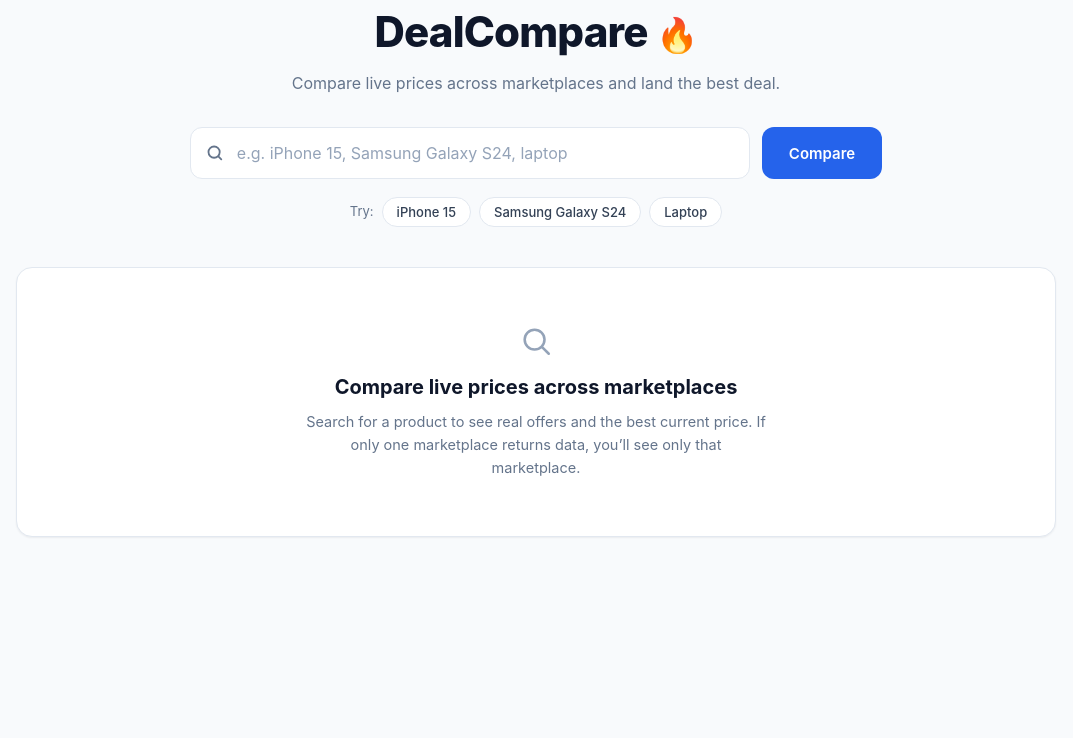
Test case: Home results experience › shows a loading skeleton while the search is in flight
Type "iphone" into the field named "Search products" at (470, 153), box [190,127,750,179]
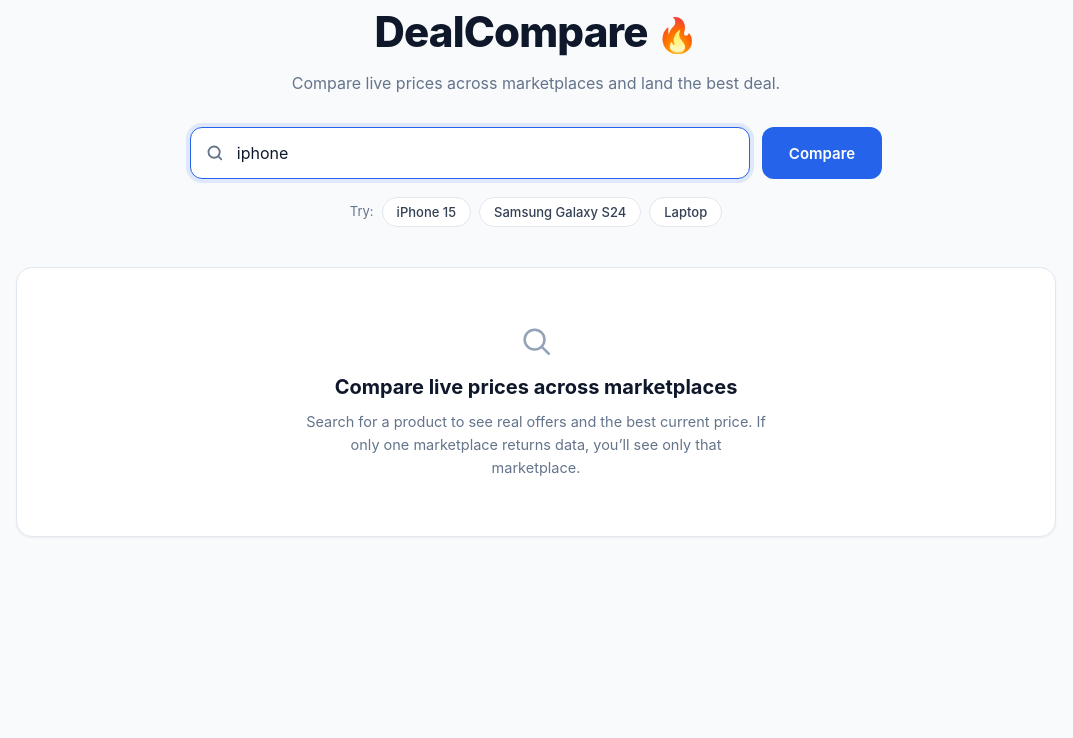
Click the button "Compare" at (822, 153), box [762,127,882,179]
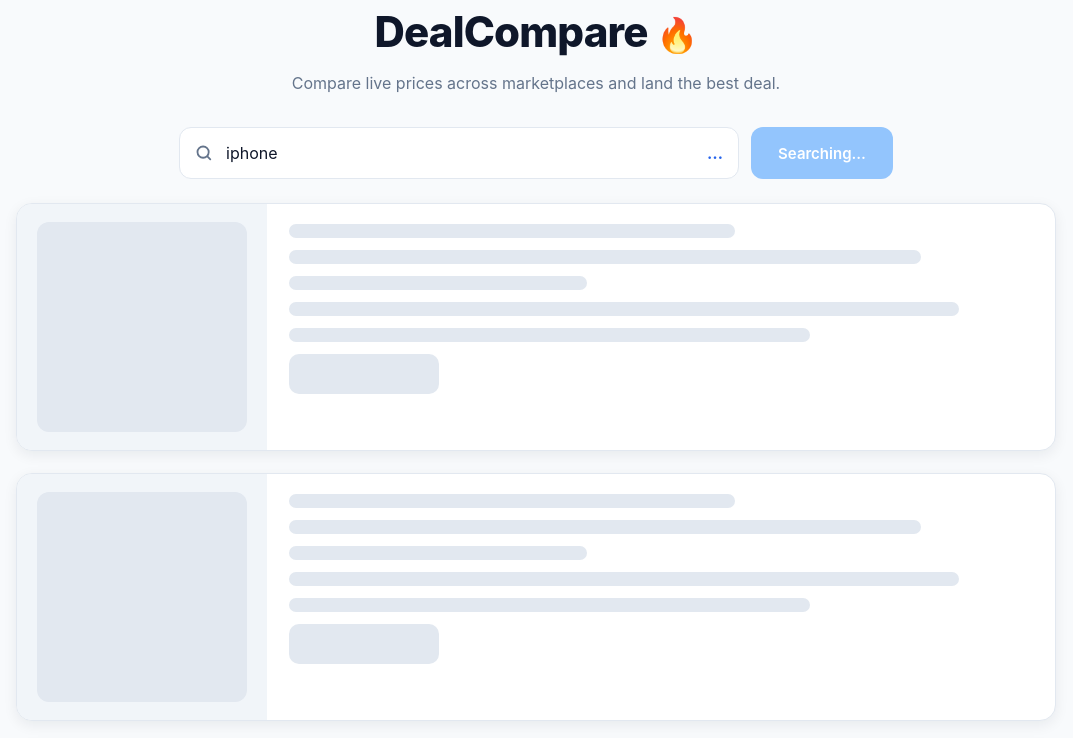
Expected: the button "Searching…" is disabled, [751,127,893,179]
